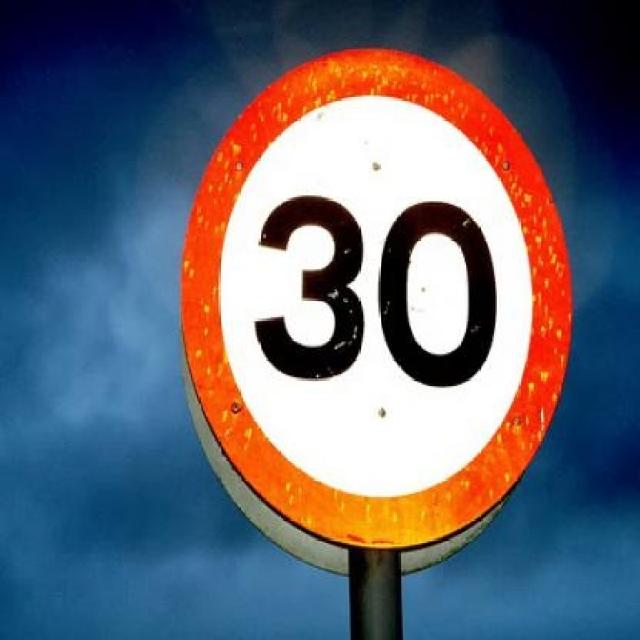forb_speed_over_30: (179, 49, 575, 551)
